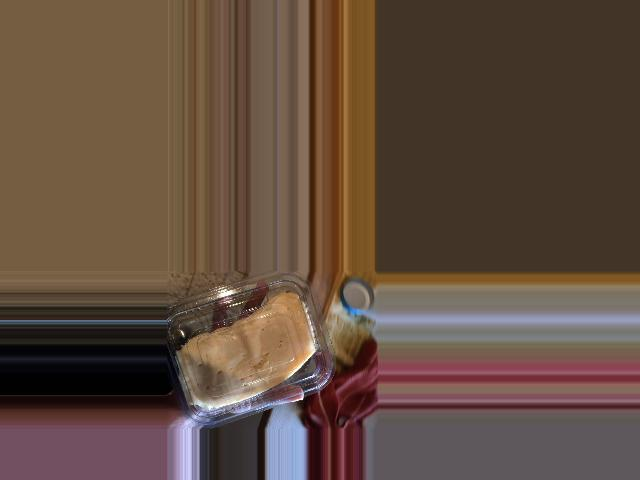cheese: (165, 278, 337, 417)
